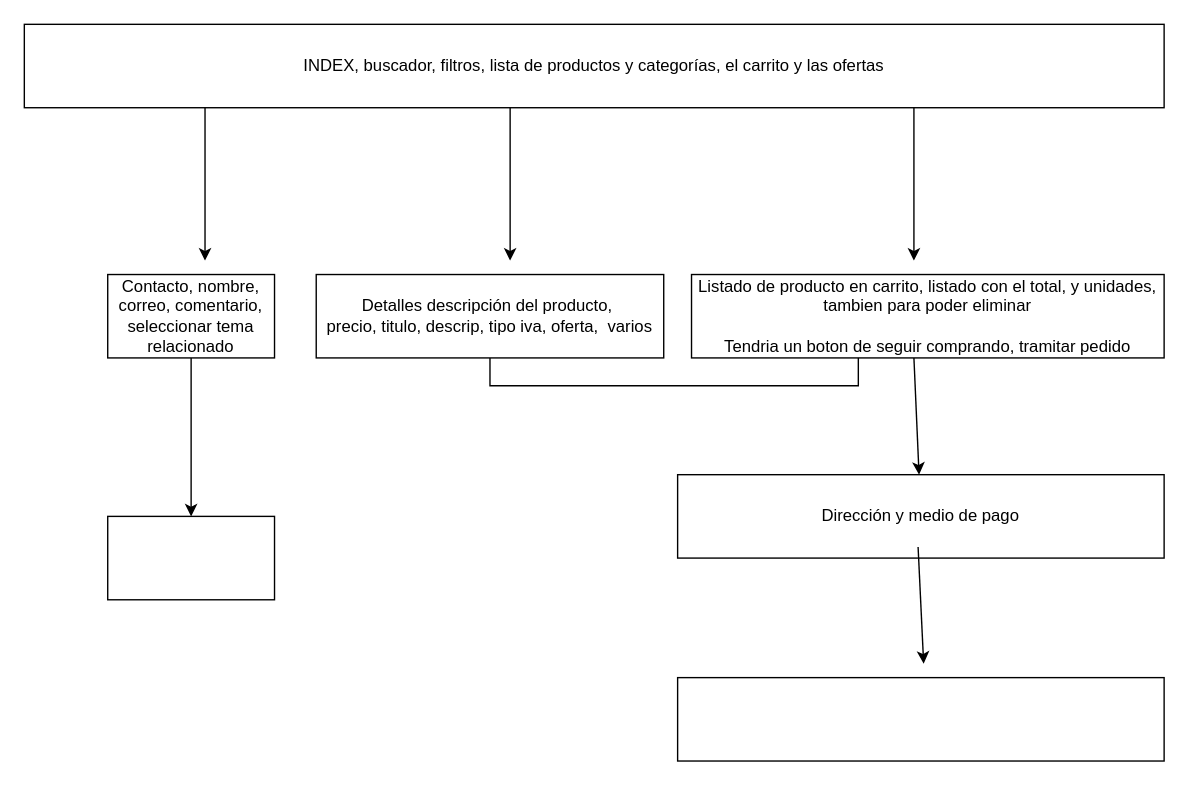
This 1188x785 diagram has some shape labels left out. The centre of each missing label's shape, as x and y in pixels:
Confirmación de envió: the point at 190,557
Confirmación de la compra: the point at 920,718
